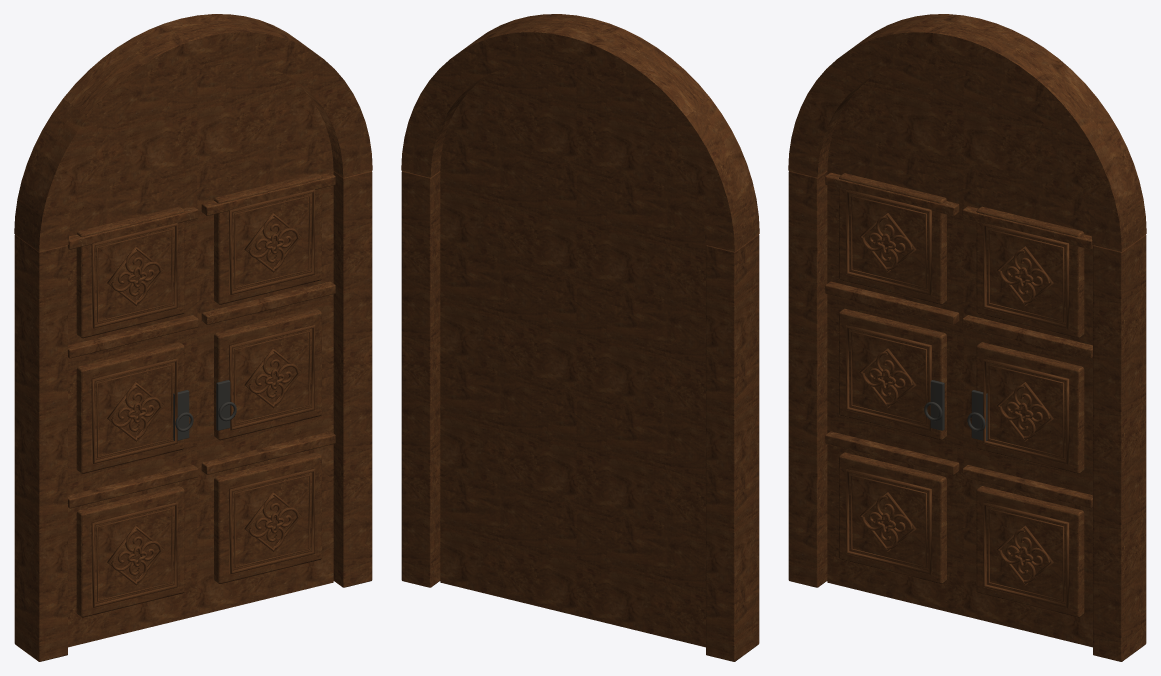
The model's file is church_door.glb.
3 renders of one model, left to right at view 1: azimuth 30°, elevation 25°; view 2: azimuth 150°, elevation 25°; view 3: azimuth 330°, elevation 25°, orthographic.
Parts seen in each view (by area): view 1: RightLeaf, LeftLeaf, ArchedFrame, Jamb, Jamb.001, PanelGround, PanelGround.003, PanelGround.001, PanelGround.004, PanelGround.002, PanelGround.005, CrossRail.003 (+19 smaller); view 2: RightLeaf, LeftLeaf, ArchedFrame, Jamb, Jamb.001; view 3: LeftLeaf, RightLeaf, ArchedFrame, Jamb.001, Jamb, PanelGround.003, PanelGround, PanelGround.004, PanelGround.001, PanelGround.005, PanelGround.002, CrossRail (+19 smaller).
Boxes of the visible parts, x1,y1,x2,y2 form: RightLeaf: (197,64,333,615); LeftLeaf: (68,70,197,647); ArchedFrame: (14,14,372,251); Jamb: (14,234,67,661); Jamb.001: (333,171,372,587); PanelGround: (76,486,184,617); PanelGround.003: (214,452,321,583); PanelGround.001: (76,342,184,473); PanelGround.004: (214,308,321,440); PanelGround.002: (76,206,184,338); PanelGround.005: (214,173,321,304); CrossRail.003: (201,431,335,474); RightLeaf: (440,64,576,615); LeftLeaf: (576,70,705,647); ArchedFrame: (401,14,759,251); Jamb: (706,234,759,661); Jamb.001: (401,171,440,587); LeftLeaf: (827,64,963,615); RightLeaf: (963,70,1092,647); ArchedFrame: (788,14,1146,251); Jamb.001: (1093,234,1146,661); Jamb: (788,171,827,587); PanelGround.003: (976,486,1084,617); PanelGround: (839,452,946,583); PanelGround.004: (976,342,1084,473); PanelGround.001: (839,308,946,440); PanelGround.005: (976,206,1084,338); PanelGround.002: (839,173,946,304); CrossRail: (825,431,959,474).
Size of the model in its own units: 1.7 by 2.85 by 0.228.
Materials: 2 (1 with a texture image).
